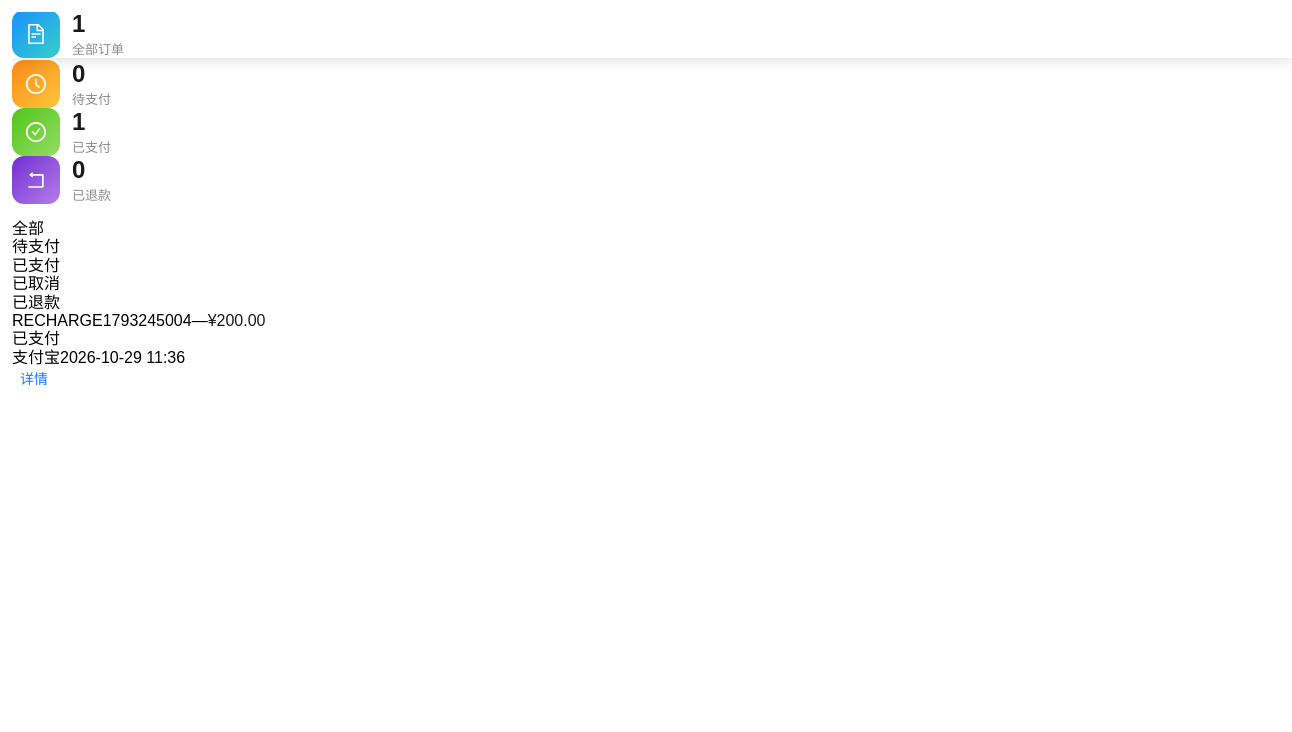
Scenario: 详情弹窗那几格念的是后端真回的键 › 商品名称没有出处就摆「—」，不许留一格空白让人猜是不是没读到
This screenshot has width=1292, height=732.
Click the button "详情" at (34, 379), box 12,367 -> 56,391
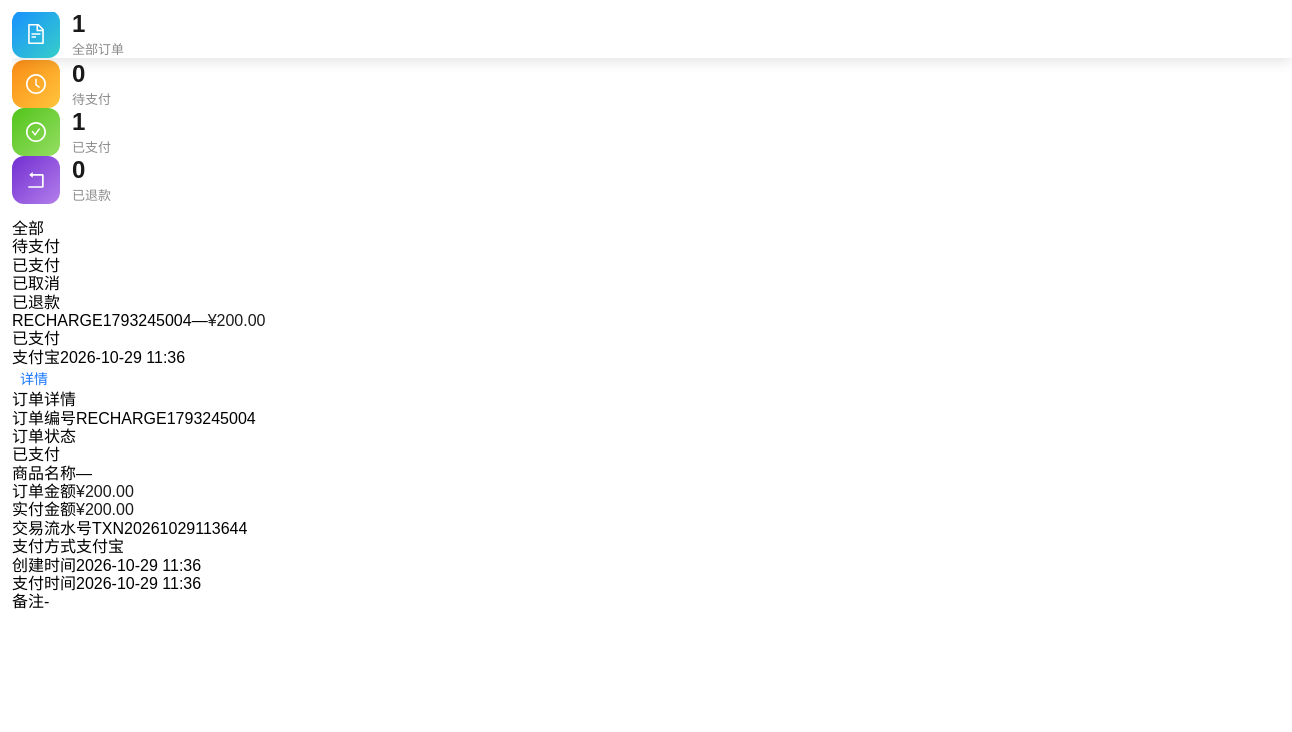
expect the text with class "desc-value" reads "TXN20261029113644": met, box 92,520 -> 247,537
